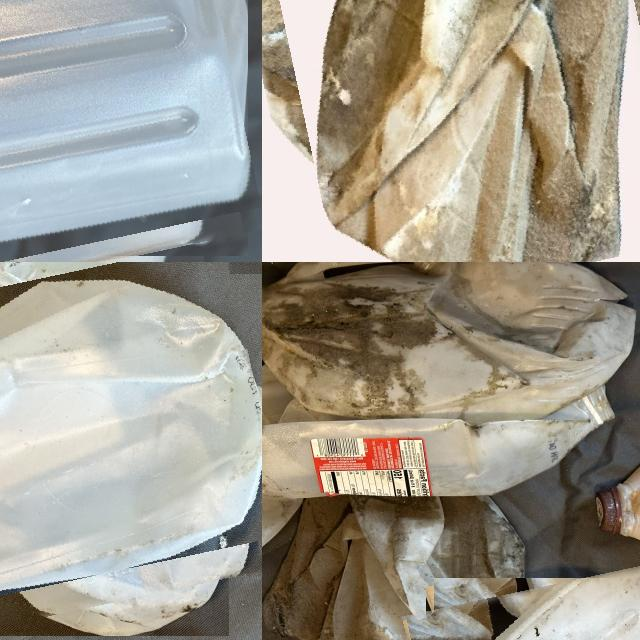milk-jug: (262, 0, 640, 262), (0, 262, 262, 622), (0, 0, 245, 262), (262, 262, 638, 430), (262, 350, 613, 501), (277, 468, 519, 640)
